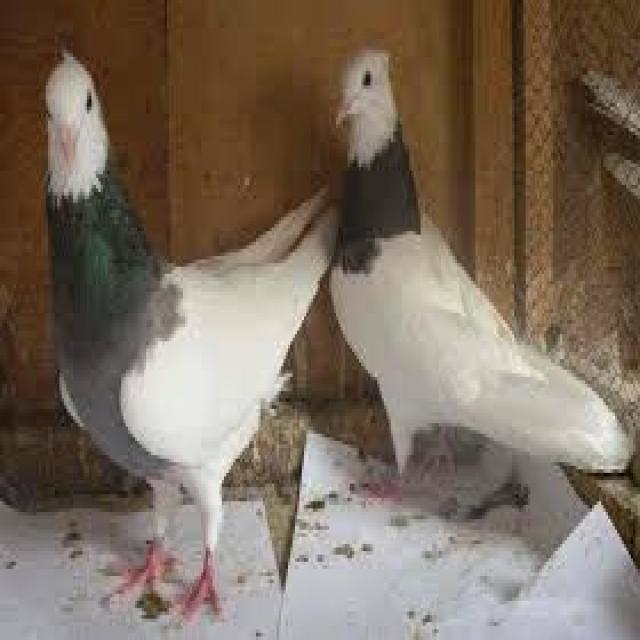bird: (36, 45, 346, 631), (326, 46, 636, 512)
